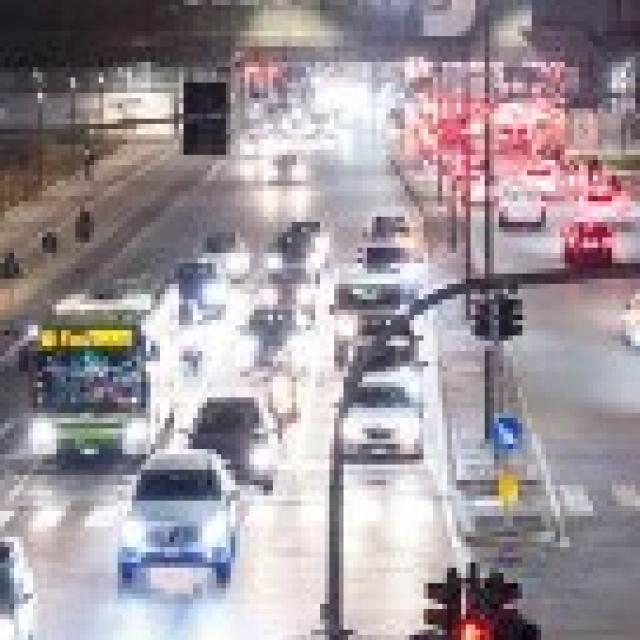bus: (29, 268, 188, 462)
car: (118, 445, 242, 589), (188, 388, 282, 495), (329, 377, 428, 462), (0, 526, 42, 639)
